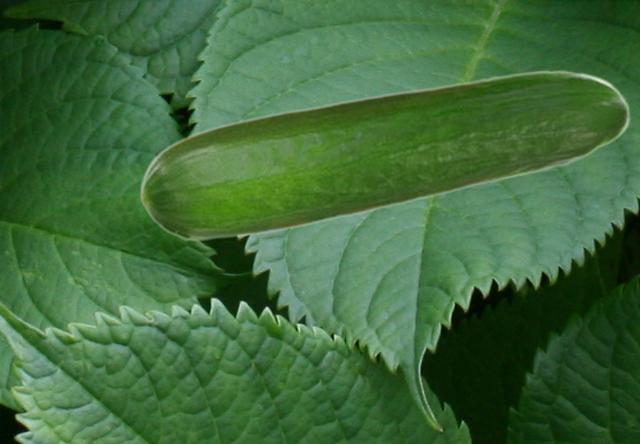cucumber: (139, 69, 629, 241)
